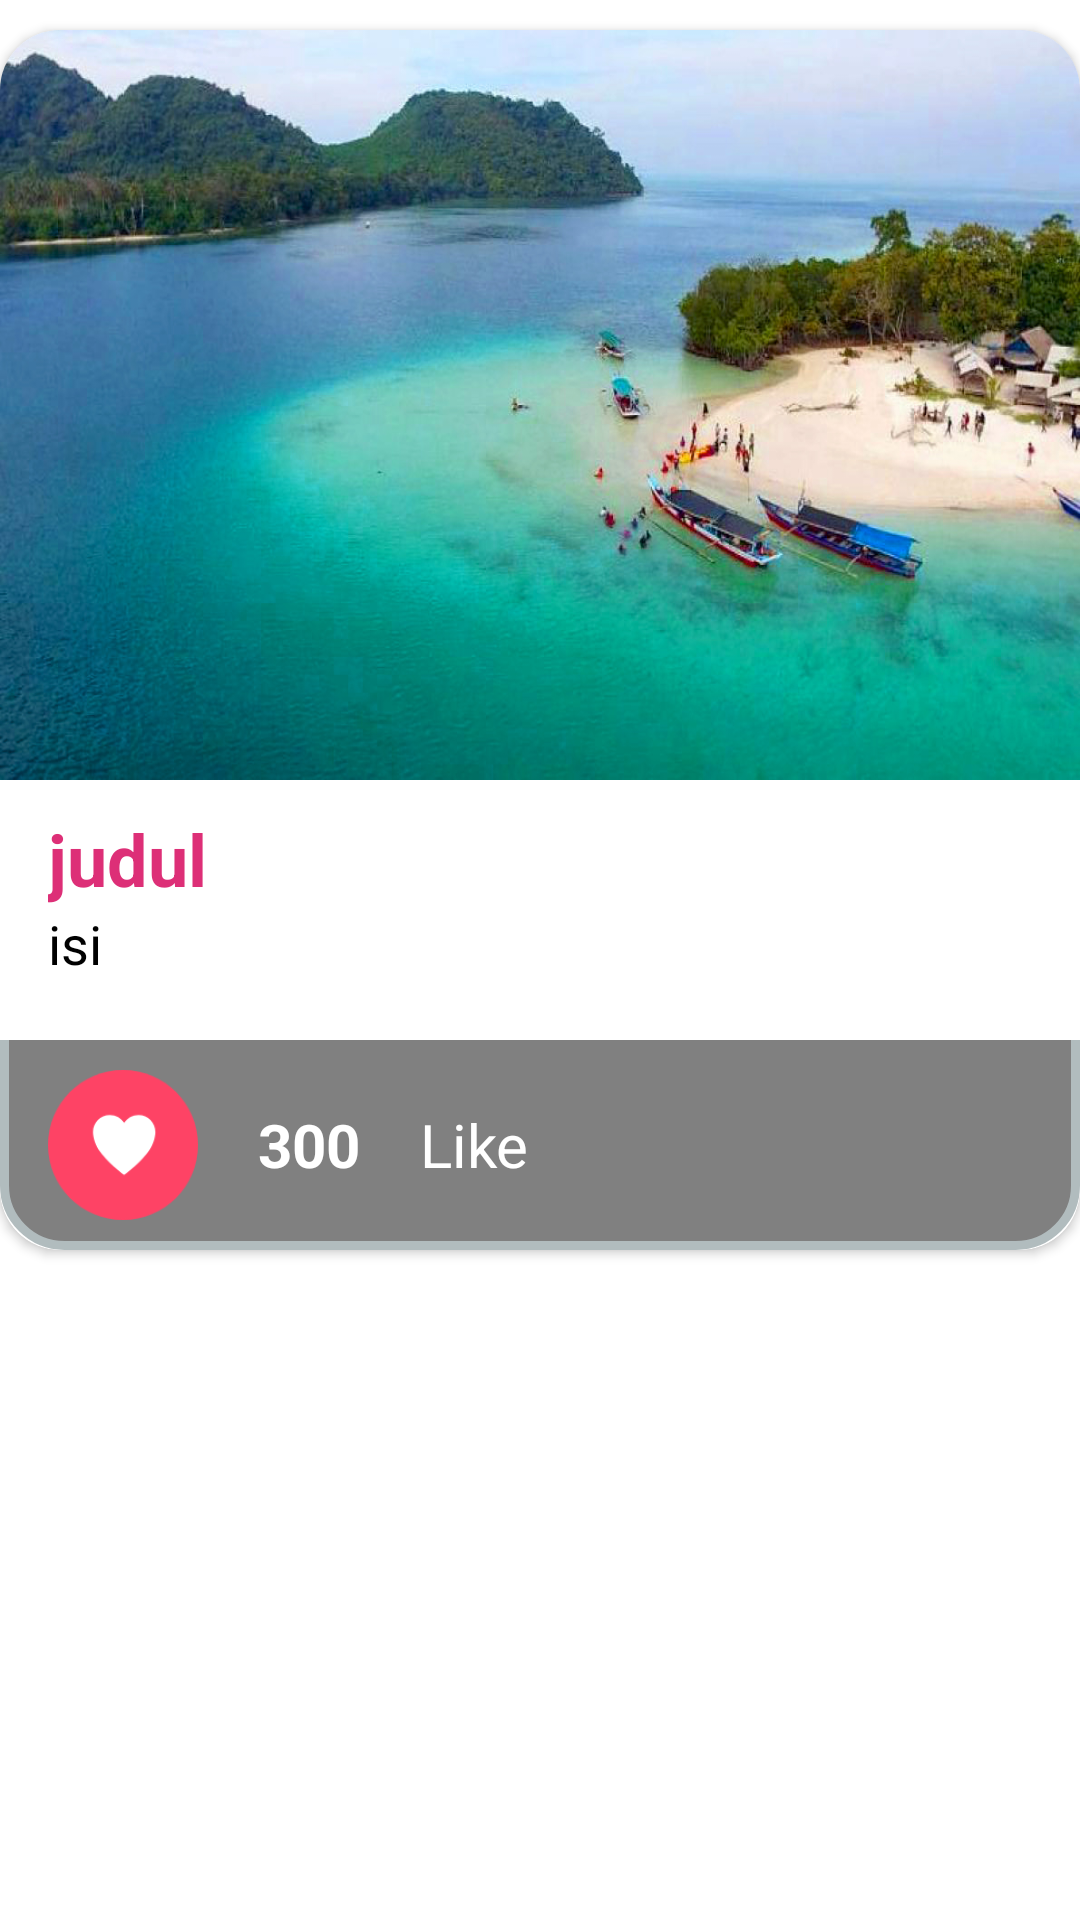

Icon bounding boxes for this 1080 × 1920 phone screenshot, format (x1, y1, x2, y2):
Gambar Like: (48, 1070, 198, 1220)
